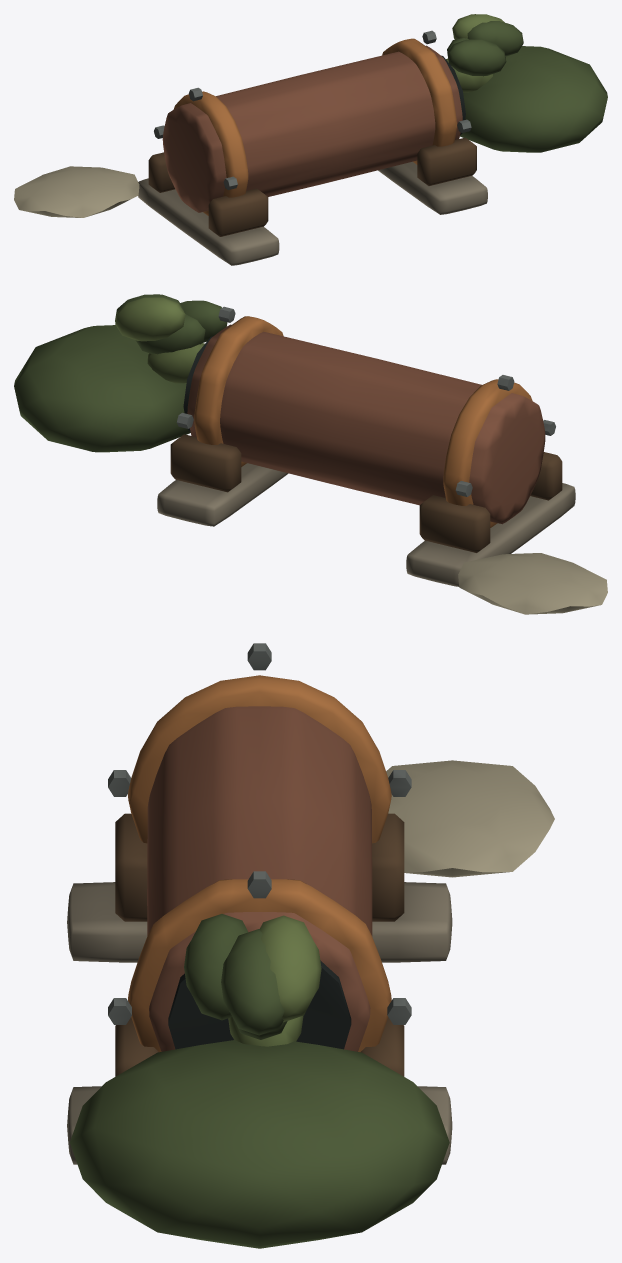
The model's file is pipe_section_c.glb.
The picture shows the model from 3 angles, top to bottom: view 1: azimuth 30°, elevation 25°; view 2: azimuth 150°, elevation 25°; view 3: azimuth 270°, elevation 25°; orthographic projection. The views are drawn at different scales.
Parts seen in each view (by area): view 1: Surface; view 2: Surface; view 3: Surface.
Boxes of the visible parts, x1=… form: Surface: x1=14, y1=14, x2=607, y2=265; Surface: x1=14, y1=294, x2=607, y2=614; Surface: x1=67, y1=643, x2=554, y2=1248.
Size of the model in its own units: 5.06 by 1.3 by 2.03.
